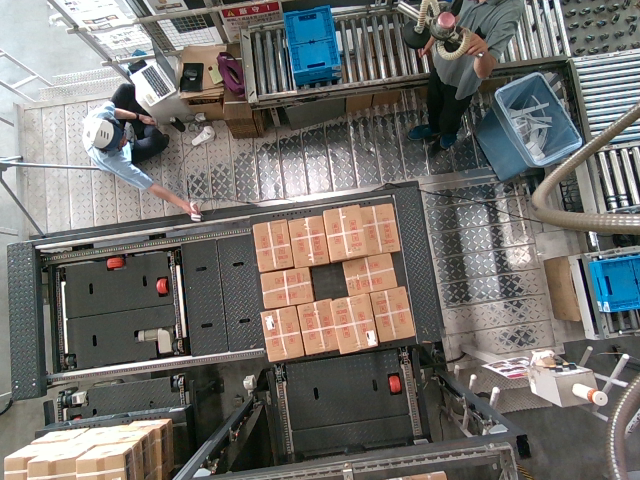box: (255, 267, 311, 304), (342, 256, 398, 293), (290, 214, 329, 266), (253, 217, 292, 269), (325, 204, 364, 256), (359, 202, 398, 254), (372, 289, 411, 341), (331, 296, 370, 348), (298, 302, 337, 354), (259, 307, 298, 359)
